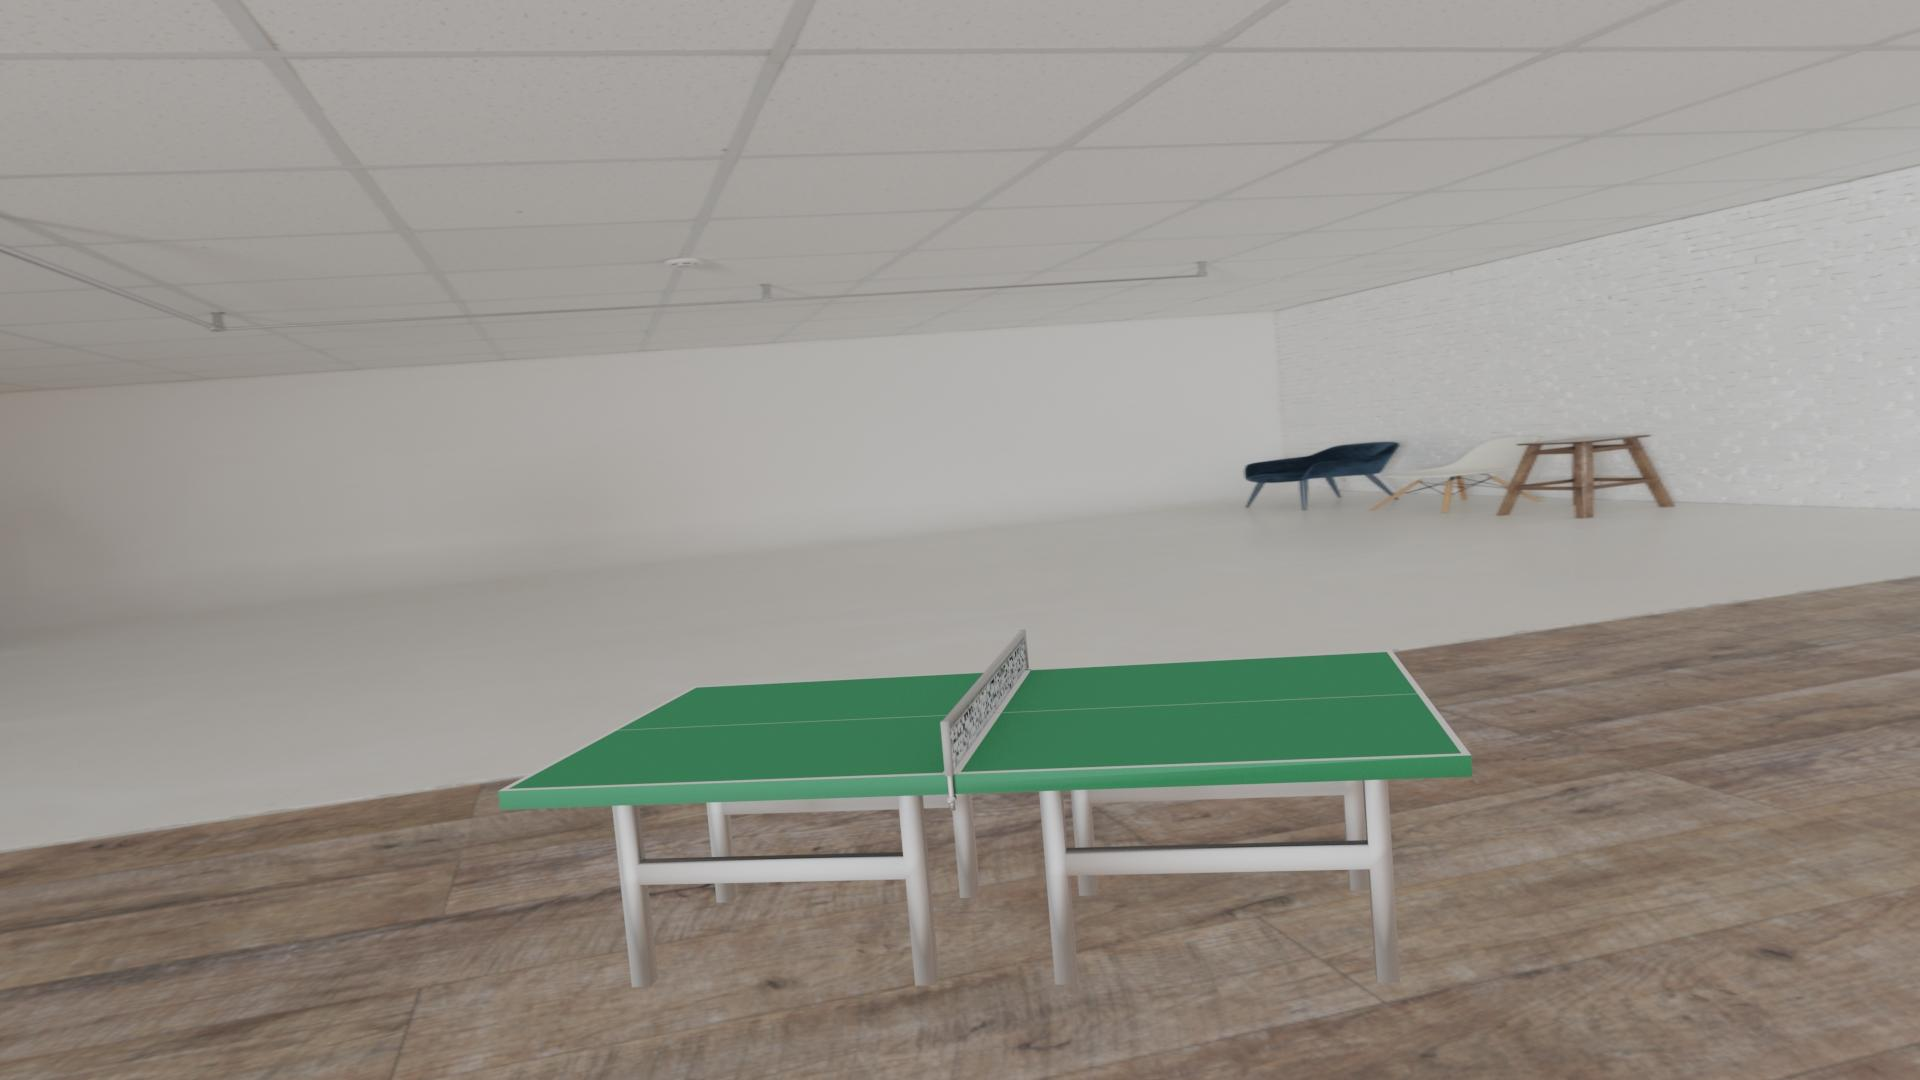table: (508, 651, 1461, 789)
